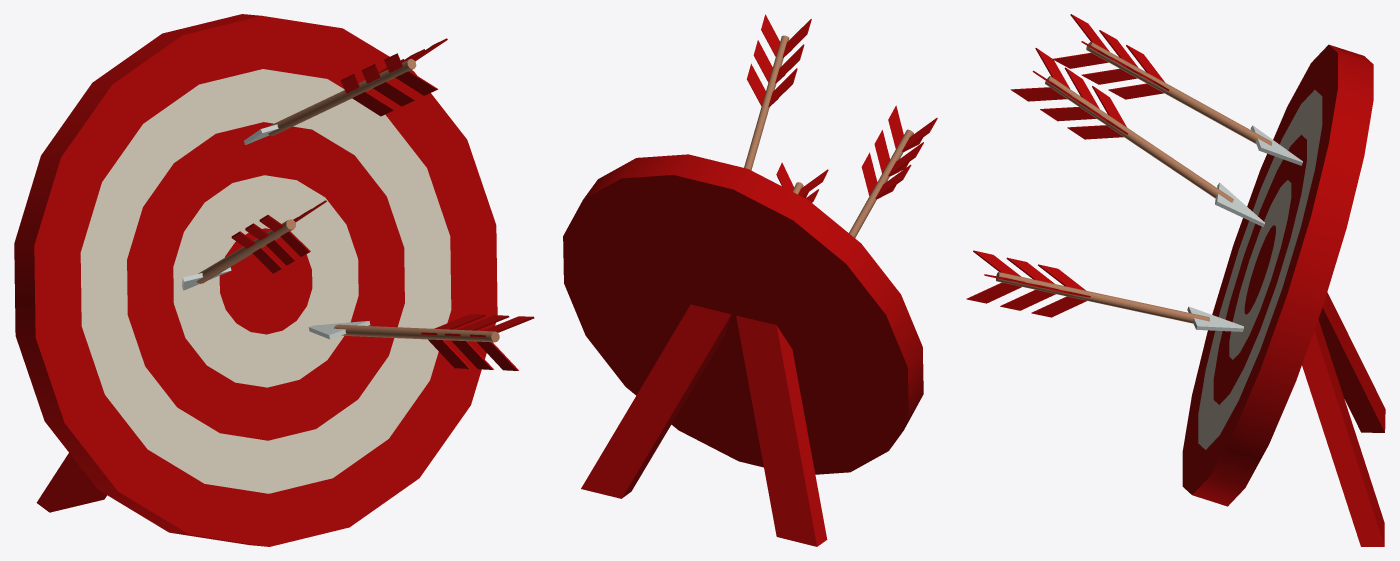
File: F_DartBoard_01.fbx
3 views of the same model, side by side, from view 1: azimuth 30°, elevation 25°; view 2: azimuth 150°, elevation 25°; view 3: azimuth 270°, elevation 25° (orthographic). The views are drawn at different scales.
Parts seen in each view (by area): view 1: F_Dartboard_01; view 2: F_Dartboard_01; view 3: F_Dartboard_01.
Part boxes in pixels (x1,y1,x2,y2): F_Dartboard_01: (14, 14, 534, 546); F_Dartboard_01: (563, 14, 937, 546); F_Dartboard_01: (966, 14, 1385, 546).
Bounding box in the file's own units: 234 × 261 × 207.
